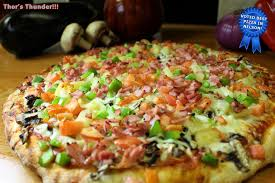pizza: (13, 44, 275, 183)
